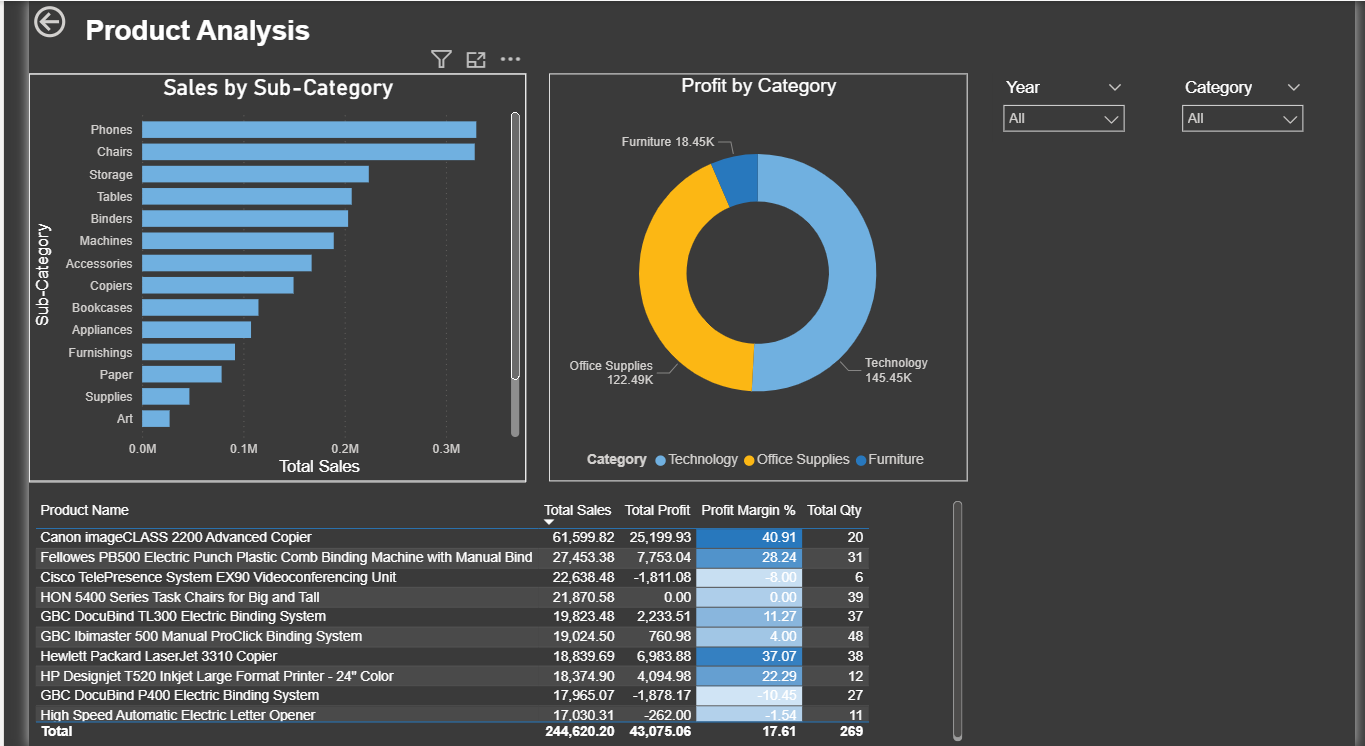

The page's visual inventory and layout, read from the dashboard file:
{"tool":"powerbi","page":{"name":"Product Analysis","canvas":[1280,720],"ordinal":1},"visuals":[{"type":"clusteredBarChart","title":"Sales by Sub-Category","fields":{"Category":["Dim_Products.Sub-Category"],"Y":["Sample - Superstore.Total Sales"]},"box":[0,70.3,479.6,393.8],"z":0},{"type":"donutChart","title":"Profit by Category","fields":{"Category":["Dim_Products.Category"],"Y":["Sample - Superstore.Total Profit"]},"box":[502.2,70.3,403.7,393.8],"z":1000},{"type":"tableEx","fields":{"Values":["Dim_Products.Product Name","Sample - Superstore.Total Sales","Sample - Superstore.Total Profit","Sample - Superstore.Profit Margin %","Sample - Superstore.Total Qty"]},"box":[0,478.2,905.8,241.9],"z":2000},{"type":"actionButton","box":[0,0,100,40],"z":3000},{"type":"slicer","fields":{"Values":["Dim_Date.Year"]},"box":[930.3,69.9,137.1,65.7],"z":4000},{"type":"slicer","fields":{"Values":["Dim_Products.Category"]},"box":[1102.3,69.9,137.1,65.7],"z":5000},{"type":"textbox","box":[49.5,8.4,231.6,43.4],"z":6000}]}

Visuals, with their boxes in screenshot pixels (x1, y1, x2, y2), scaled from the page's 1280x720 canvas onto the 1365x746 screenshot:
"Sales by Sub-Category" clusteredBarChart: bbox=[0, 73, 511, 481]
"Profit by Category" donutChart: bbox=[536, 73, 966, 481]
tableEx - Dim_Products.Product Name x Sample - Superstore.Total Sales: bbox=[0, 495, 966, 745]
actionButton: bbox=[0, 0, 107, 41]
slicer - Dim_Date.Year: bbox=[992, 72, 1138, 140]
slicer - Dim_Products.Category: bbox=[1175, 72, 1322, 140]
textbox: bbox=[53, 9, 300, 54]
